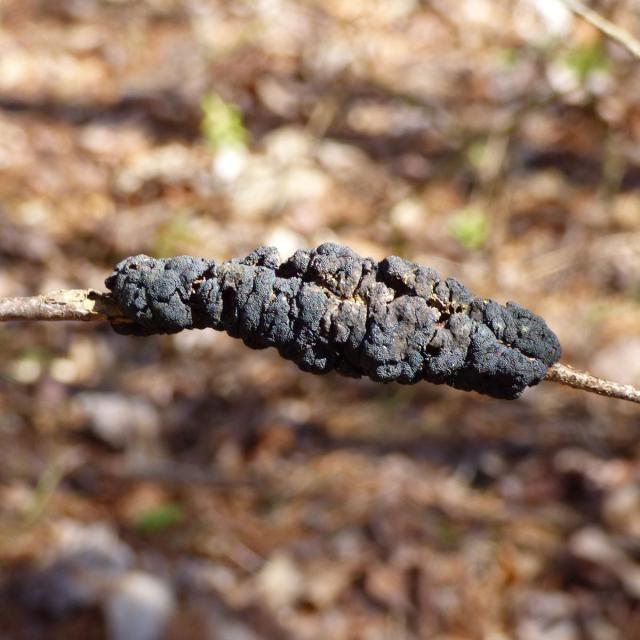Black_knot: (104, 241, 563, 401)
